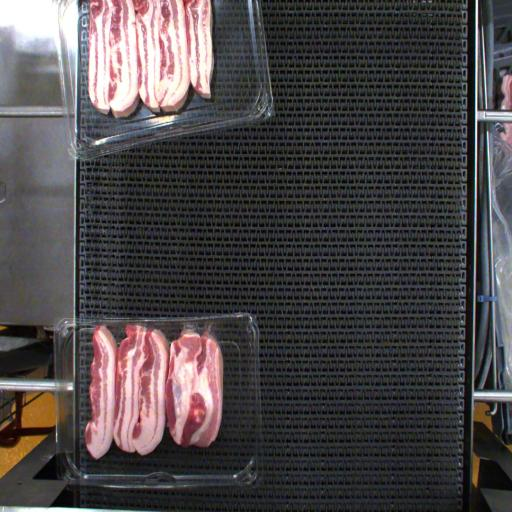packaging-error: (178, 319, 234, 344)
